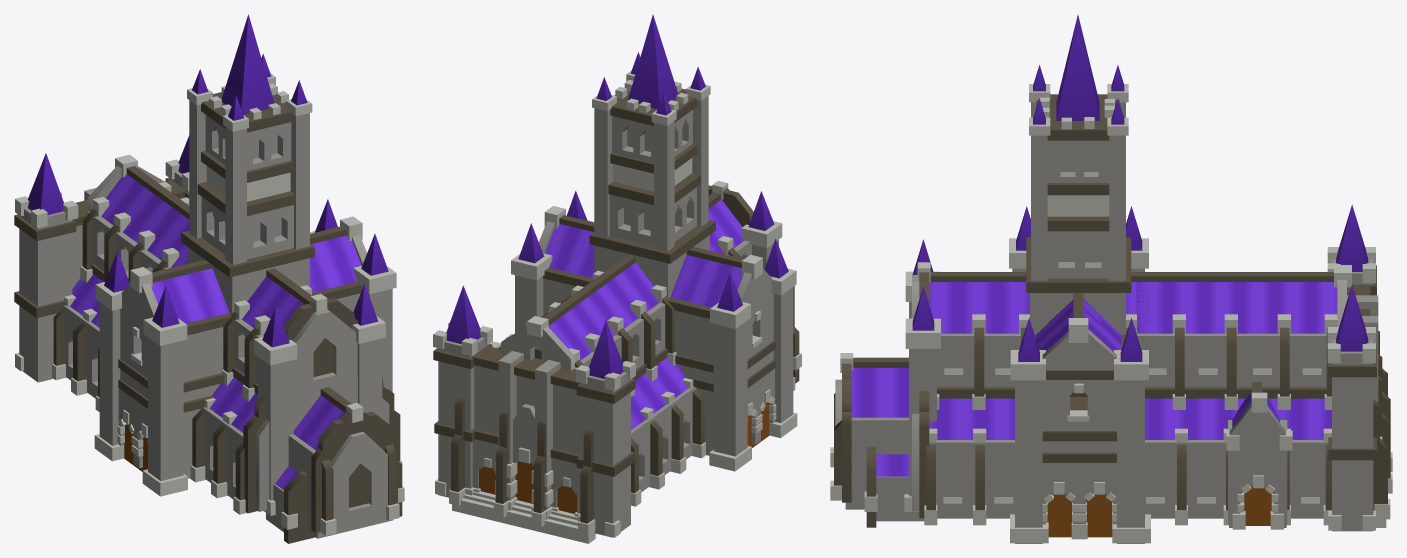
Rendered from cathedral.fbx.
3 views of the same model, side by side, from view 1: azimuth 30°, elevation 25°; view 2: azimuth 150°, elevation 25°; view 3: azimuth 270°, elevation 25° (orthographic). The views are drawn at different scales.
Visible parts, largest first — view 1: polySurface1630; view 2: polySurface1630; view 3: polySurface1630.
Part boxes in pixels (left/top/right/bottom): polySurface1630: left=14, top=14, right=404, bottom=543; polySurface1630: left=433, top=14, right=801, bottom=543; polySurface1630: left=830, top=15, right=1392, bottom=543.
Bounding box in the file's own units: 273 × 488 × 515.
1 material, 1 textured.
